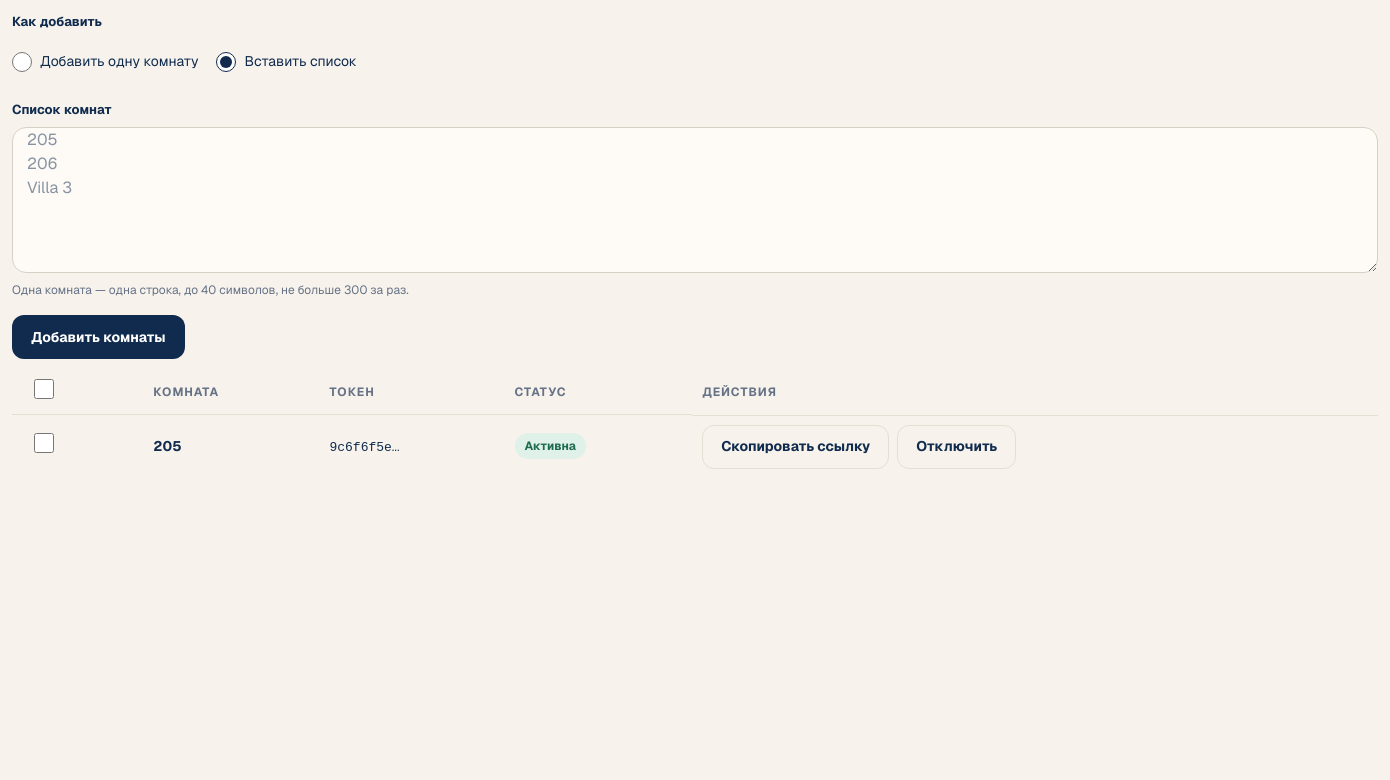
RoomEditor › shows a short token preview and copies the full guest link only on request
The width and height of the screenshot is (1390, 780).
Expected: the text "9c6f6f5e…" is shown, left=329, top=440, right=400, bottom=454
Click the button with aria-label "Скопировать ссылку для 205" at (796, 446), box left=702, top=424, right=889, bottom=468
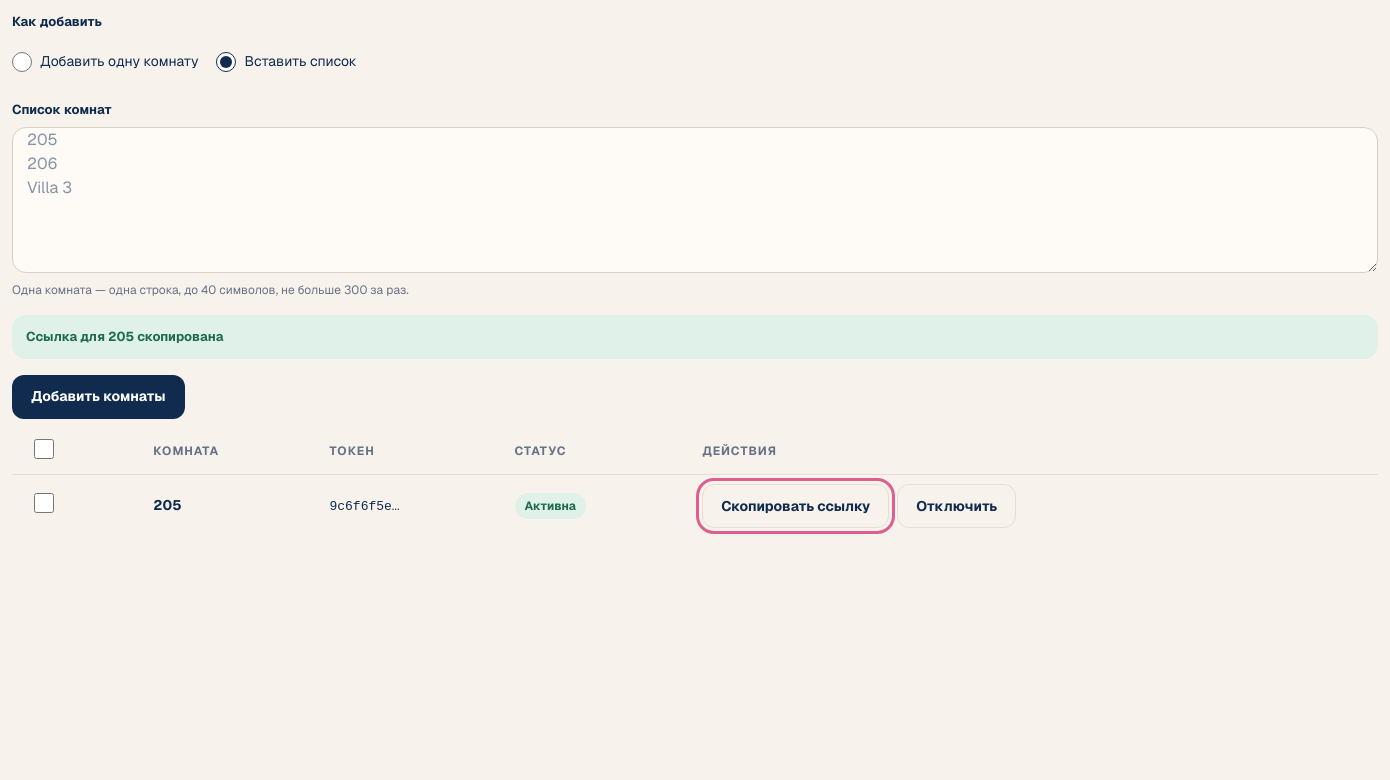
Expected: the text "Ссылка для 205 скопирована" is shown, left=12, top=315, right=1378, bottom=358
